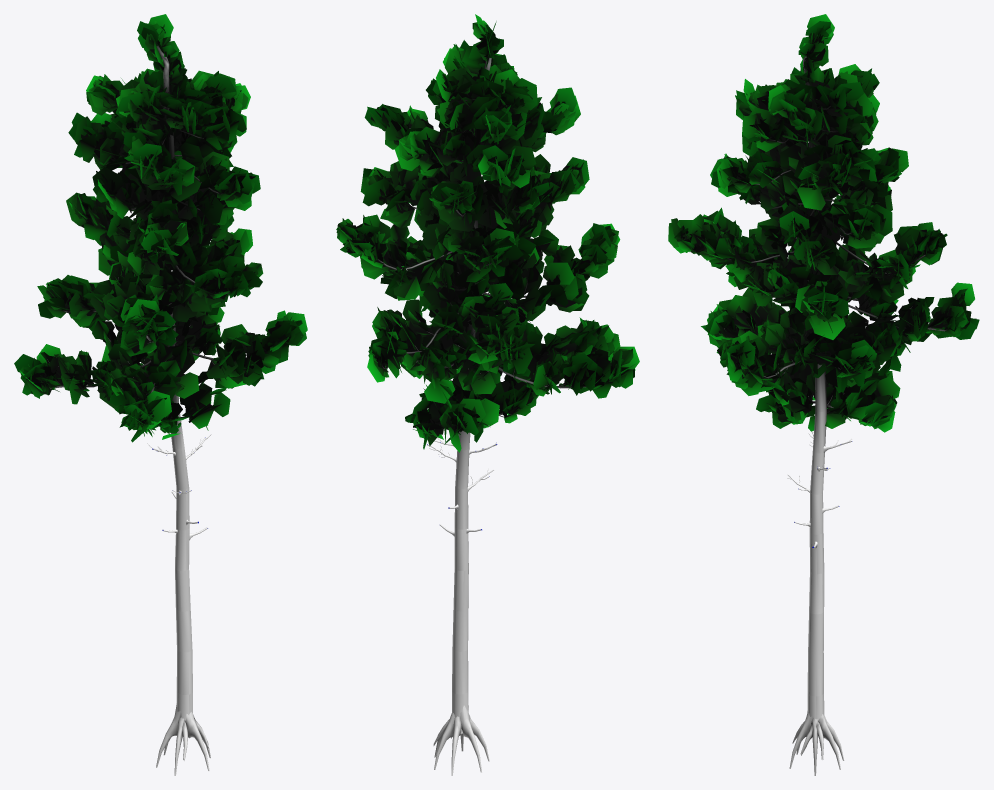
The model's file is PW_Tree_Spruce_01_03 Hero.fbx.
3 views of the same model, side by side, from view 1: azimuth 30°, elevation 25°; view 2: azimuth 150°, elevation 25°; view 3: azimuth 270°, elevation 25° (orthographic). The views are drawn at different scales.
Parts seen in each view (by area): view 1: PW_Tree_Hero_Spruce_2_LOD0; view 2: PW_Tree_Hero_Spruce_2_LOD0; view 3: PW_Tree_Hero_Spruce_2_LOD0.
Part boxes in pixels (x1,y1,x2,y2): PW_Tree_Hero_Spruce_2_LOD0: (14, 14, 307, 775); PW_Tree_Hero_Spruce_2_LOD0: (336, 14, 639, 775); PW_Tree_Hero_Spruce_2_LOD0: (668, 14, 979, 775).
Size of what is drawn, in the model's own units: 835 by 2394 by 920.
